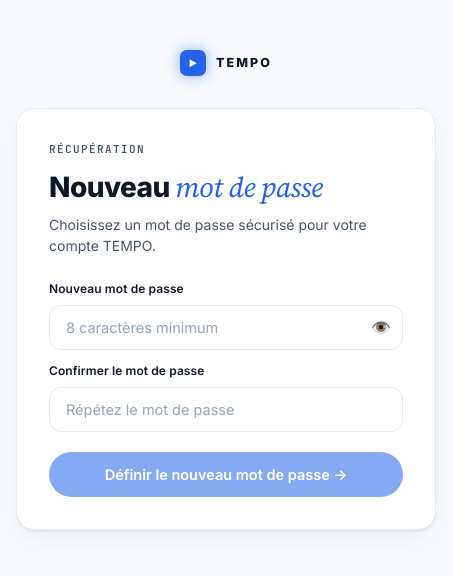
Test: ResetPassword › Indicateur de correspondance › affiche "ne correspondent pas" si confirm ≠ password
In the password field labelled "Nouveau mot de passe": (226,327) [49,305,403,350], type "Abcde12345"
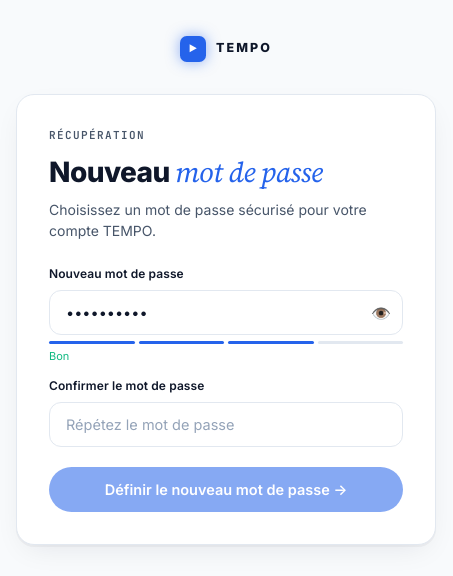
In the password field labelled "Confirmer le mot de passe": (226,424) [49,402,403,446], type "Different99"
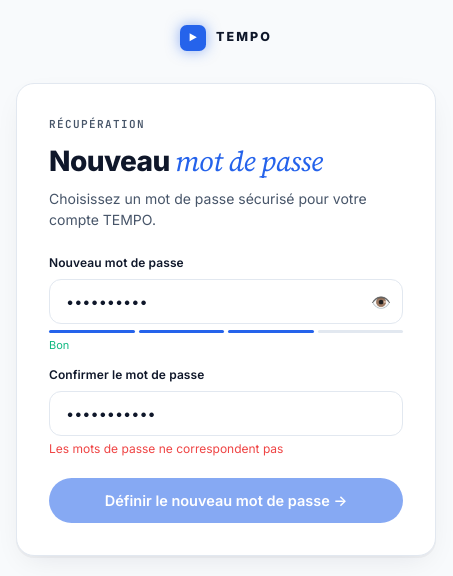
Now the text "Les mots de passe ne correspondent pas" is shown, box [49,440,284,456]
